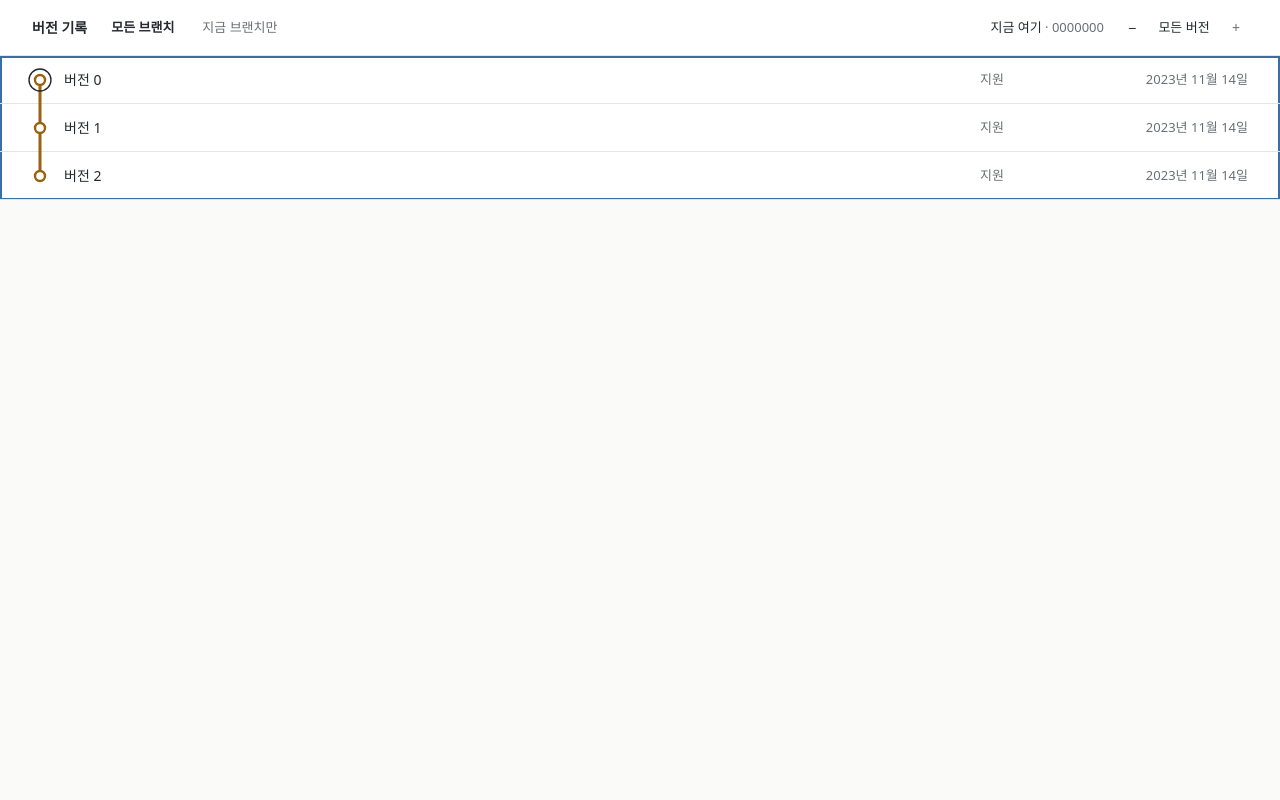
역 메뉴 › 대화상자를 닫으면 목록으로 포커스가 돌아온다
Press ArrowDown in the list, box [0,56,1279,200]
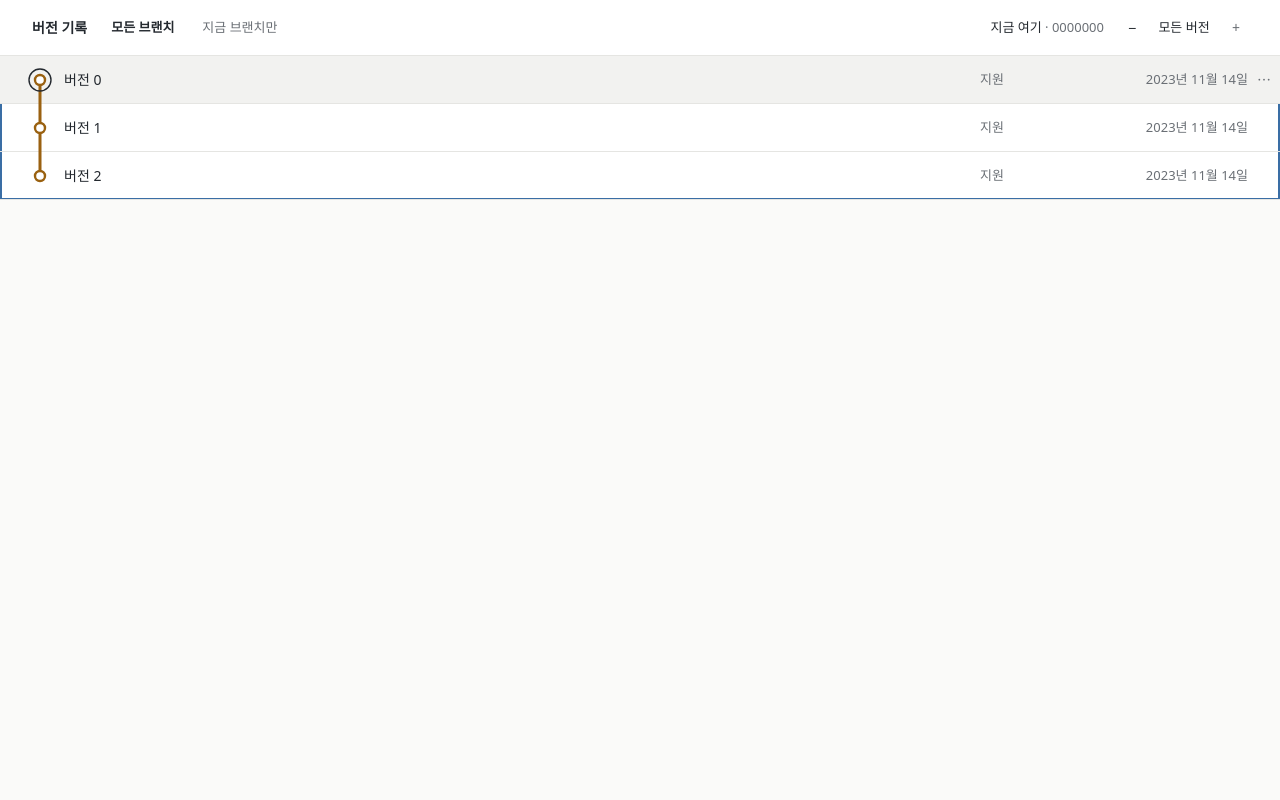
Press Enter in the list, box [0,56,1279,200]
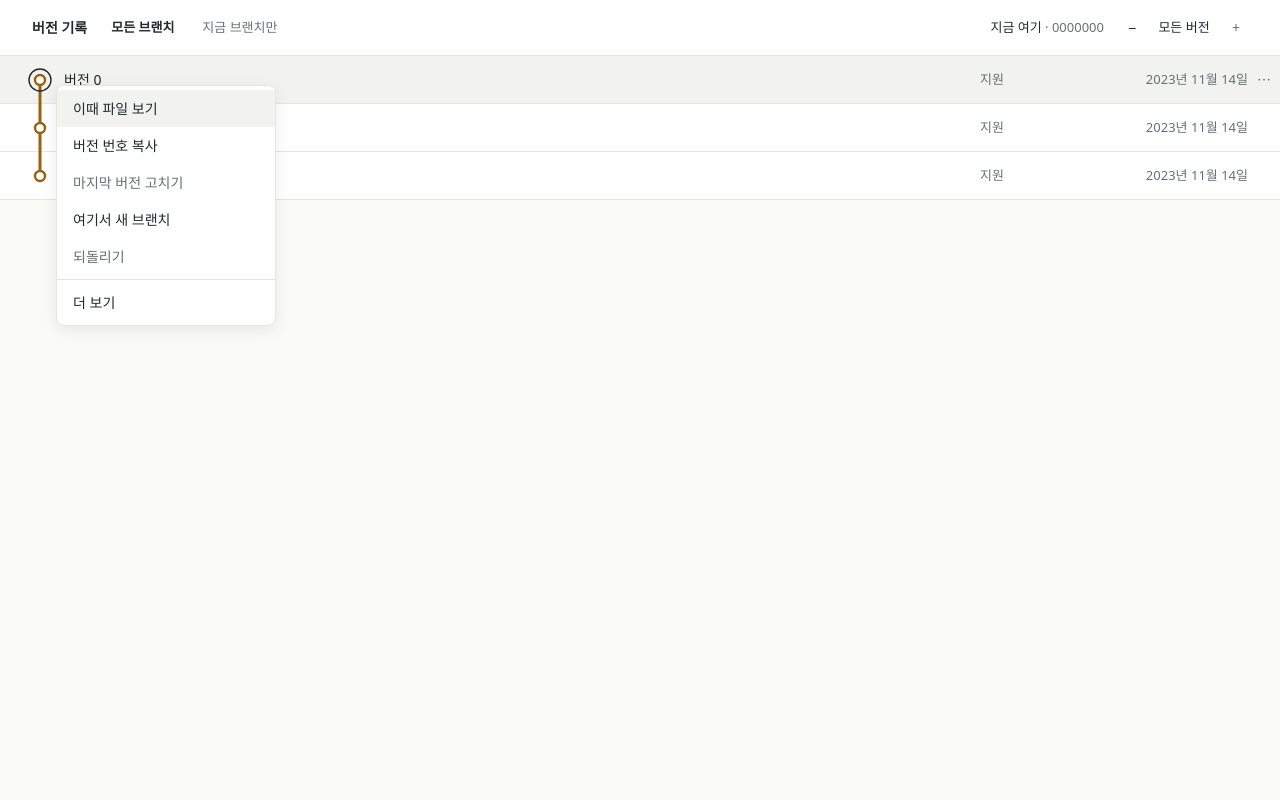
Click the menu item "이때 파일 보기" at (166,108), box [57,90,275,127]
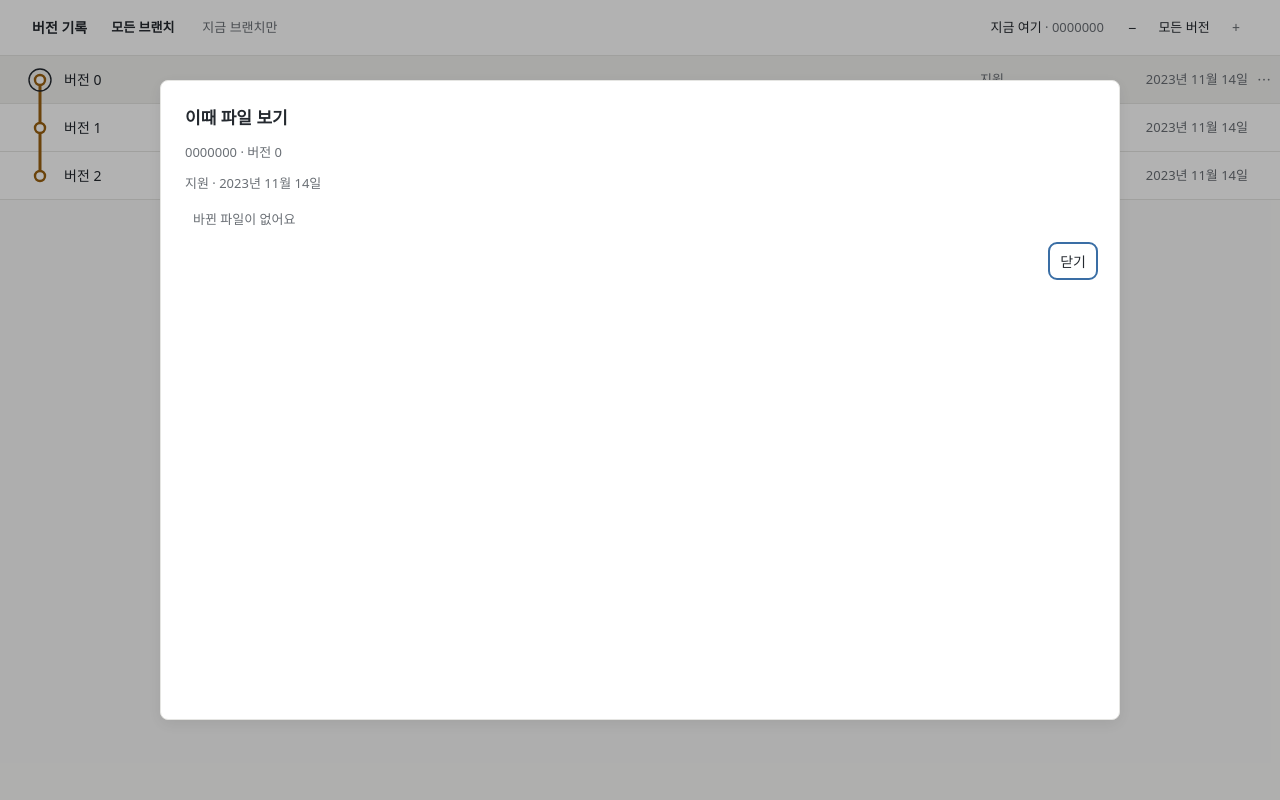
Now the dialog is shown, box [160,80,1120,720]
Press Escape
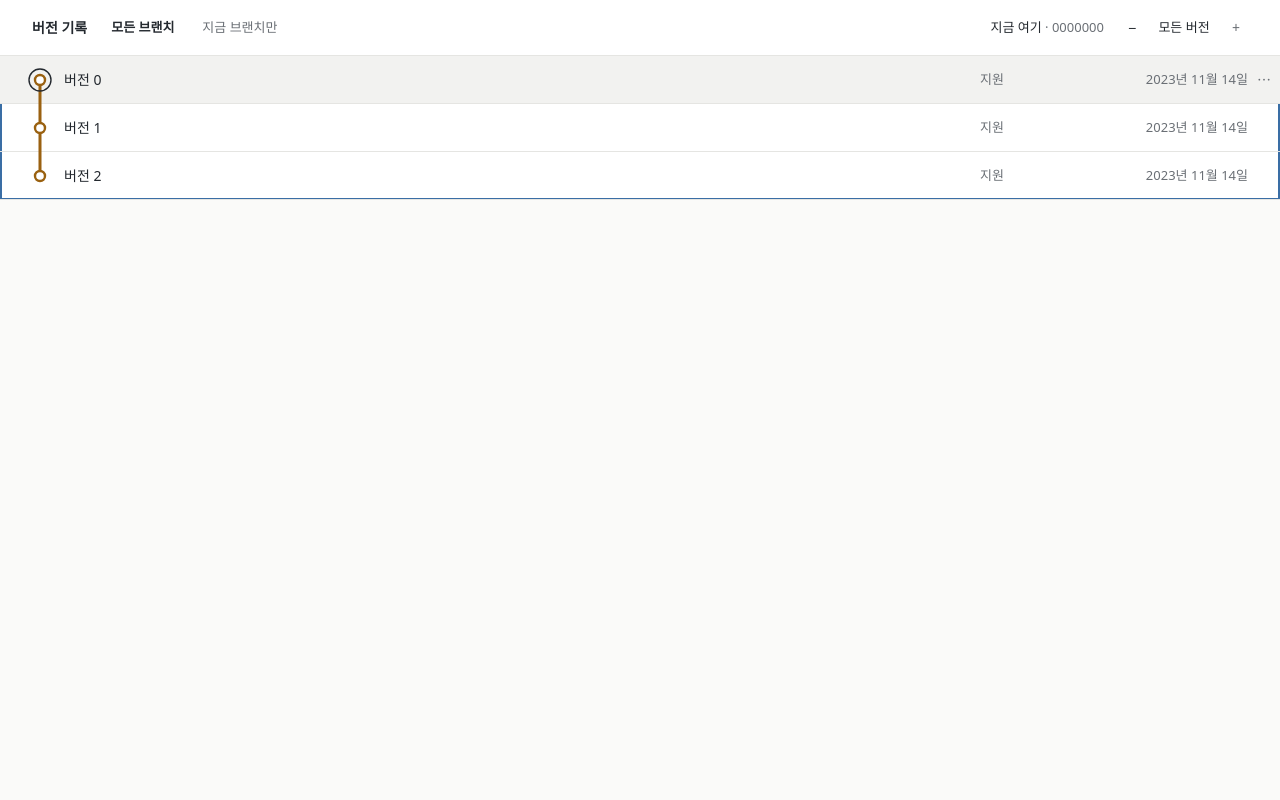
Now the dialog is gone
